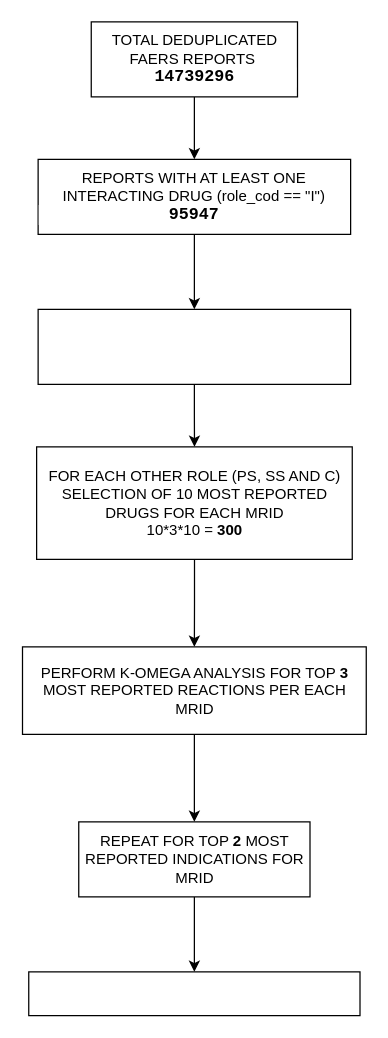
This 388x1038 diagram has some shape labels left out. The box of each missing label's shape, as (x1, y1, x2, y2) in pixels:
1800 TOTAL K-OMEGA COMPUTATIONS: (28, 971, 360, 1016)
SELECTION OF 10 MOST REPORTED INTERACTING DRUGS (MRID): (37, 308, 351, 384)
